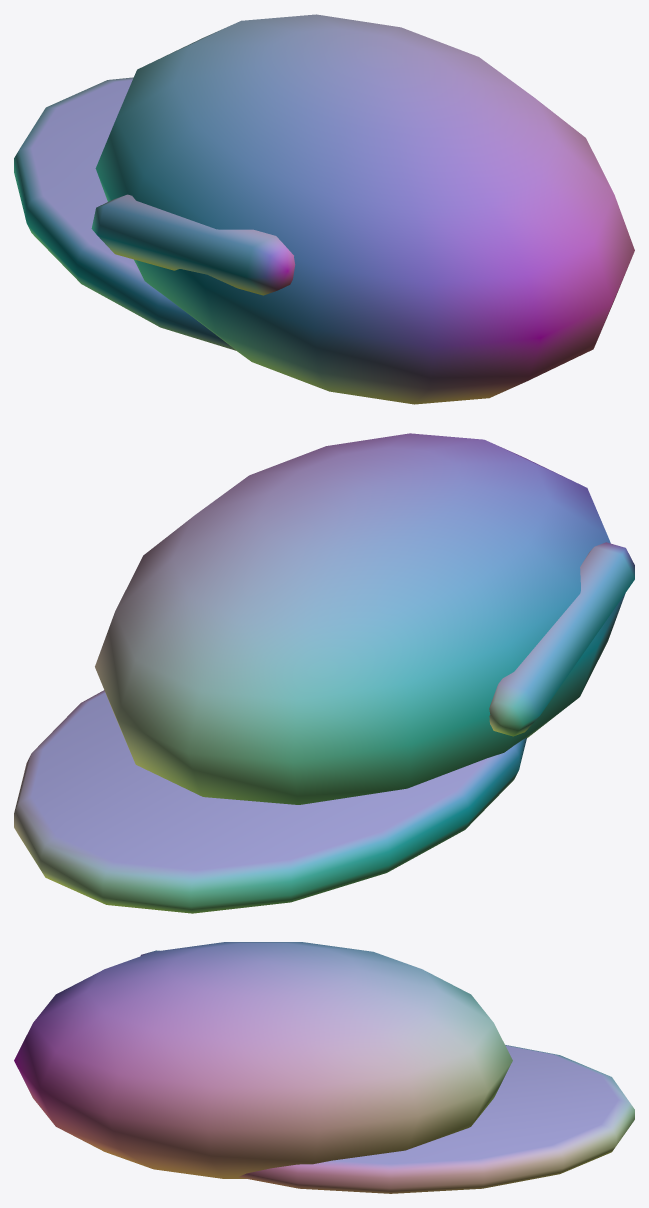
Rendered from acc_shoe_L.glb.
3 renders of one model, top to bottom at view 1: azimuth 30°, elevation 25°; view 2: azimuth 150°, elevation 25°; view 3: azimuth 270°, elevation 25°, orthographic. The views are drawn at different scales.
Visible parts, largest first — view 1: shoe_L; view 2: shoe_L; view 3: shoe_L.
Part boxes in pixels (x1=…): shoe_L: x1=14, y1=14, x2=634, y2=404; shoe_L: x1=14, y1=433, x2=634, y2=913; shoe_L: x1=14, y1=942, x2=634, y2=1193.
Size of the model in its own units: 0.0641 by 0.04 by 0.1145.
